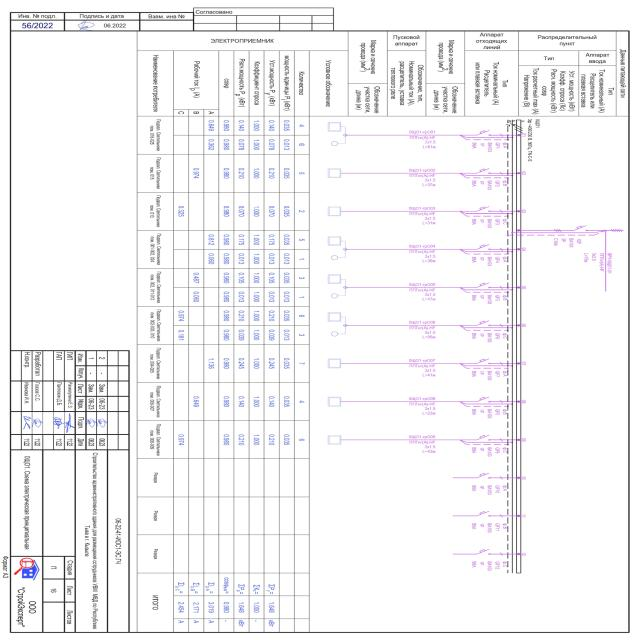-: (470, 407, 508, 420), (470, 217, 507, 230), (470, 522, 507, 535), (472, 560, 508, 573), (472, 140, 508, 153), (470, 446, 508, 458), (470, 179, 508, 191), (470, 331, 508, 343), (470, 293, 508, 305), (470, 369, 508, 381), (470, 484, 507, 496), (472, 256, 508, 268), (553, 236, 574, 248), (534, 118, 540, 128)
QF: (475, 434, 492, 442), (476, 167, 493, 175), (572, 224, 589, 232), (476, 281, 492, 289), (476, 205, 492, 213), (475, 472, 492, 479), (476, 396, 493, 403), (476, 357, 493, 364), (476, 244, 493, 251), (477, 129, 494, 136), (476, 511, 493, 518), (476, 319, 492, 326), (476, 549, 492, 556)
